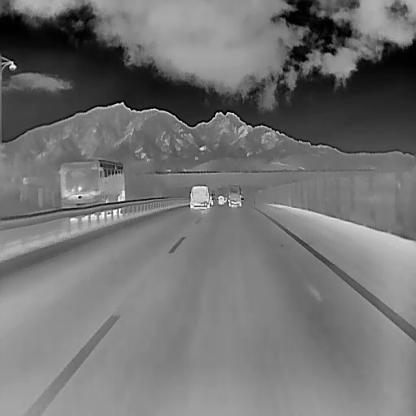car: (57, 158, 124, 221), (189, 185, 210, 210), (227, 181, 241, 209), (216, 194, 225, 207), (207, 194, 214, 205)
